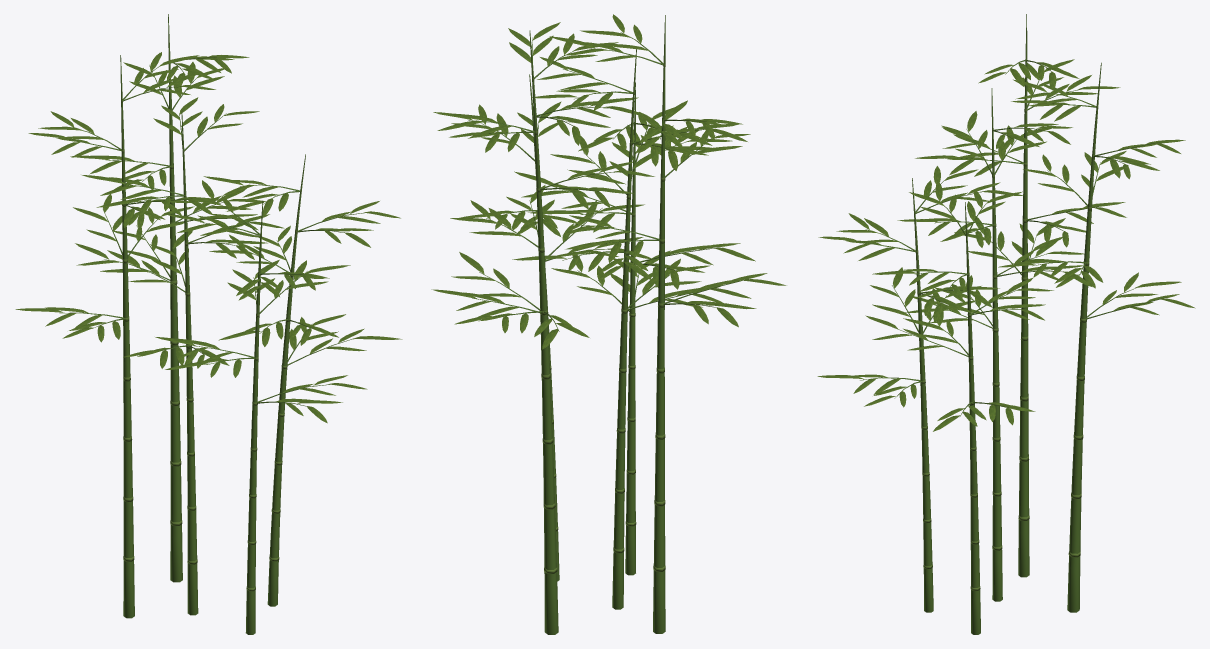
The model's file is asset.glb.
3 views of the same model, side by side, from view 1: azimuth 30°, elevation 25°; view 2: azimuth 150°, elevation 25°; view 3: azimuth 270°, elevation 25° (orthographic). The views are drawn at different scales.
Visible parts, largest first — view 1: Stems, Foliage; view 2: Foliage, Stems; view 3: Stems, Foliage.
Part boxes in pixels (<box>): Stems: <box>59,14,364,634</box>; Foliage: <box>15,52,402,423</box>; Foliage: <box>431,14,786,349</box>; Stems: <box>468,15,748,634</box>; Stems: <box>855,14,1166,634</box>; Foliage: <box>817,59,1195,431</box>.
Bounding box in the file's own units: 1.41 × 2.35 × 1.45.
Materials: 2 (1 with a texture image).
